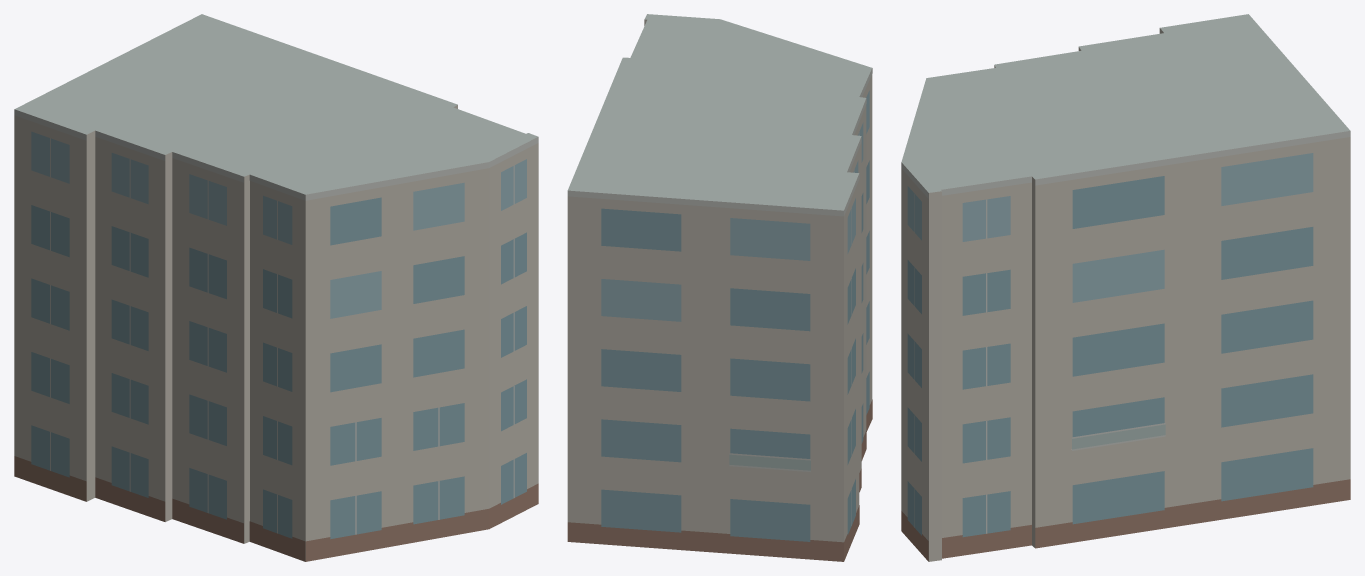
Rendered from survey-upis-32677538.glb.
3 views of the same model, side by side, from view 1: azimuth 30°, elevation 25°; view 2: azimuth 150°, elevation 25°; view 3: azimuth 270°, elevation 25° (orthographic). The views are drawn at different scales.
Parts seen in each view (by area): view 1: survey-upis-32677538.tmp; view 2: survey-upis-32677538.tmp; view 3: survey-upis-32677538.tmp.
Part boxes in pixels (bbox=[...]): survey-upis-32677538.tmp: bbox=[14, 14, 538, 561]; survey-upis-32677538.tmp: bbox=[567, 14, 872, 561]; survey-upis-32677538.tmp: bbox=[901, 14, 1350, 561].
Bounding box in the file's own units: 15.3 × 14.7 × 16.23.
